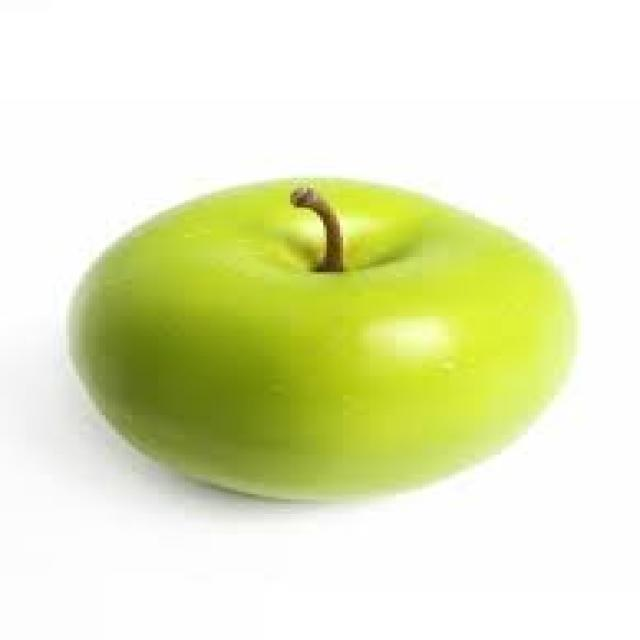50-_ripeness: (48, 163, 577, 513)
